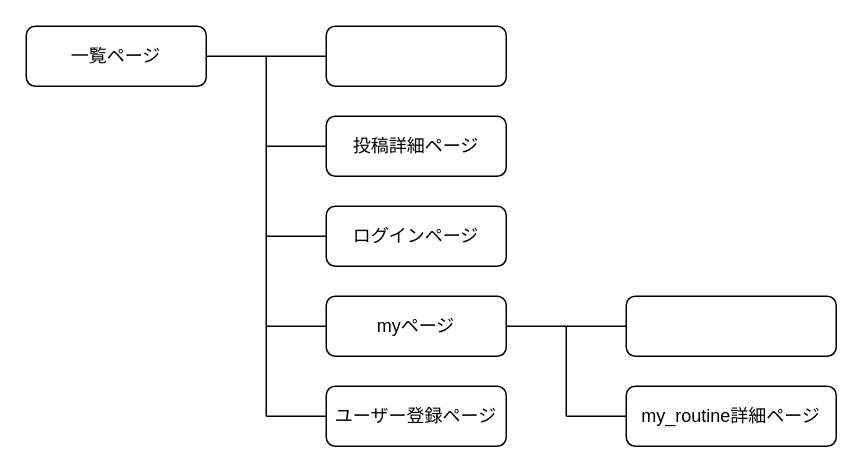
Some shapes in this 863 by 473 pixel diagram are drawn without their labels. Each missing label, with the centre of its shape:
"my_routine登録ページ" belongs at point (730, 325).
"投稿ページ" belongs at point (415, 55).
